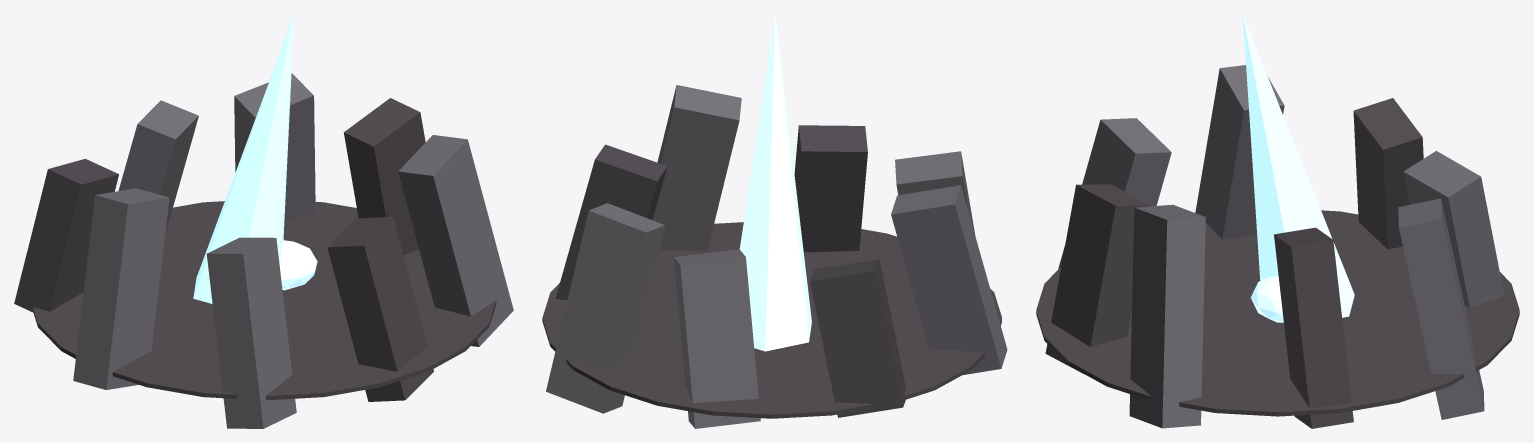
The model's file is descent.glb.
The picture shows the model from 3 angles, left to right: view 1: azimuth 30°, elevation 25°; view 2: azimuth 150°, elevation 25°; view 3: azimuth 270°, elevation 25°; orthographic projection. The views are drawn at different scales.
Parts seen in each view (by area): view 1: Cylinder, Cube.004, Cube.007, Cube.005, Cube.006, Cone, Cube.003, Cube, Cube.002, Cube.001, Icosphere; view 2: Cylinder, Cube.001, Cone, Cube.004, Cube.002, Cube.003, Cube.007, Cube.006, Cube, Cube.005; view 3: Cylinder, Cube.007, Cube.006, Cube, Cube.001, Cone, Cube.004, Cube.002, Cube.003, Cube.005, Icosphere.
Boxes of the visible parts, box(x1,y1,x2,y2) form: Cylinder: box(33, 201, 496, 400); Cube.004: box(73, 188, 169, 389); Cube.007: box(398, 135, 513, 346); Cube.005: box(206, 237, 296, 428); Cube.006: box(327, 216, 433, 401); Cone: box(193, 15, 294, 303); Cube.003: box(14, 158, 118, 312); Cube: box(343, 98, 425, 255); Cube.002: box(118, 100, 198, 231); Cube.001: box(234, 73, 315, 220); Icosphere: box(279, 240, 317, 290); Cylinder: box(542, 222, 1001, 418); Cube.001: box(546, 203, 664, 413); Cone: box(739, 14, 811, 351); Cube.004: box(891, 185, 1007, 375); Cube.002: box(674, 249, 760, 428); Cube.003: box(810, 259, 905, 417); Cube.007: box(652, 85, 741, 251); Cube.006: box(794, 125, 867, 252); Cube: box(555, 144, 667, 300); Cube.005: box(895, 151, 975, 234); Cylinder: box(1036, 210, 1519, 416); Cube.007: box(1129, 204, 1205, 428); Cube.006: box(1045, 184, 1150, 374); Cube: box(1274, 227, 1353, 428); Cube.001: box(1398, 198, 1484, 419); Cone: box(1242, 14, 1354, 317); Cube.004: box(1195, 65, 1284, 239); Cube.002: box(1403, 150, 1504, 307); Cube.003: box(1353, 98, 1423, 249); Cube.005: box(1058, 118, 1171, 269); Icosphere: box(1250, 276, 1283, 322).
Bounding box in the file's own units: 6.34 × 5.03 × 6.2.
